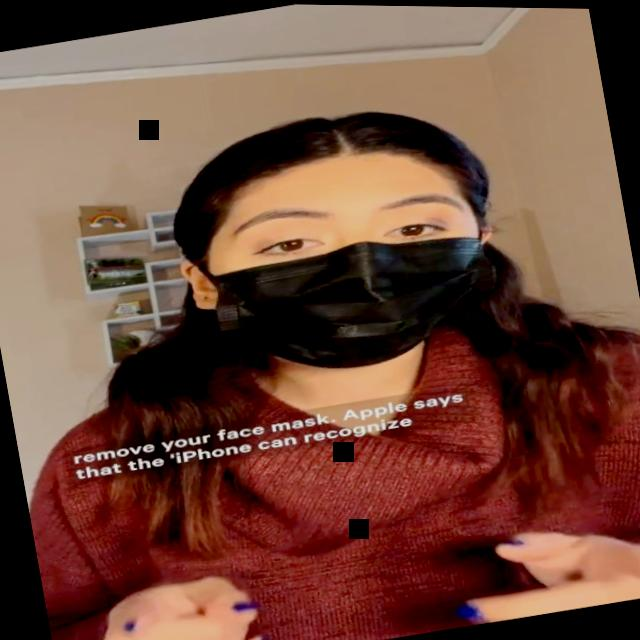Mask: (163, 119, 528, 401)
